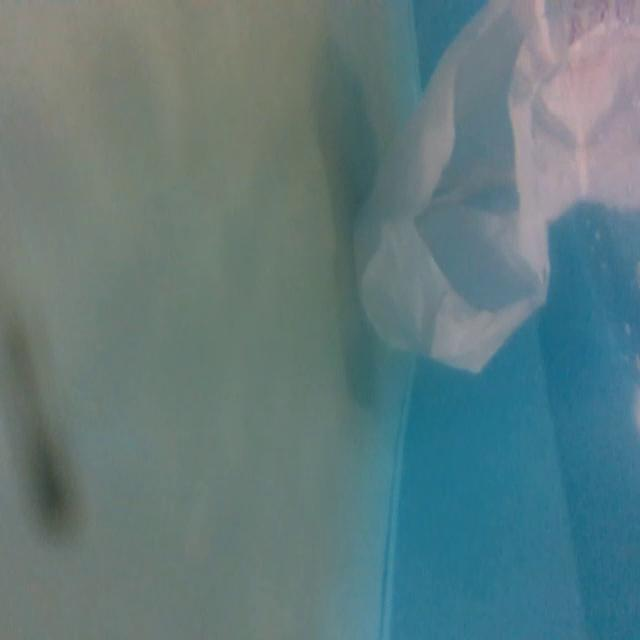plastic bags: (343, 1, 640, 379)
